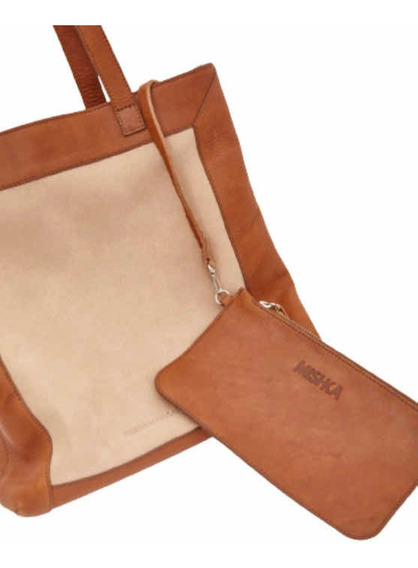cartera: (1, 25, 323, 518)
